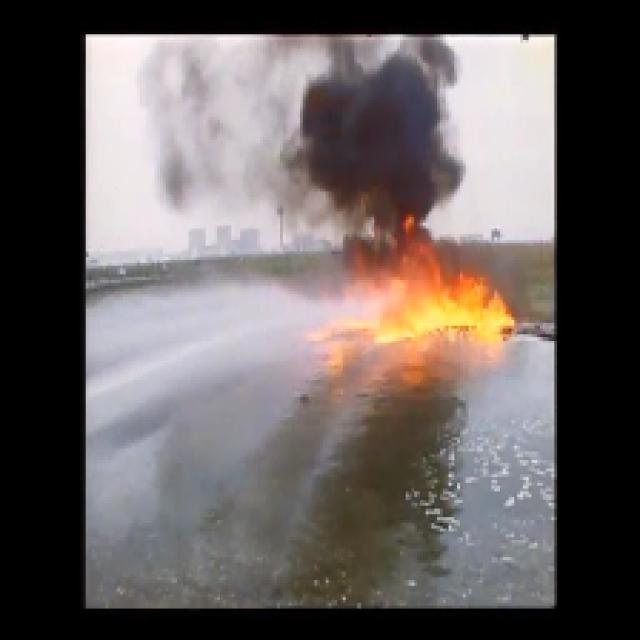Fire: (381, 262, 520, 346)
Smoke: (151, 42, 462, 222)
